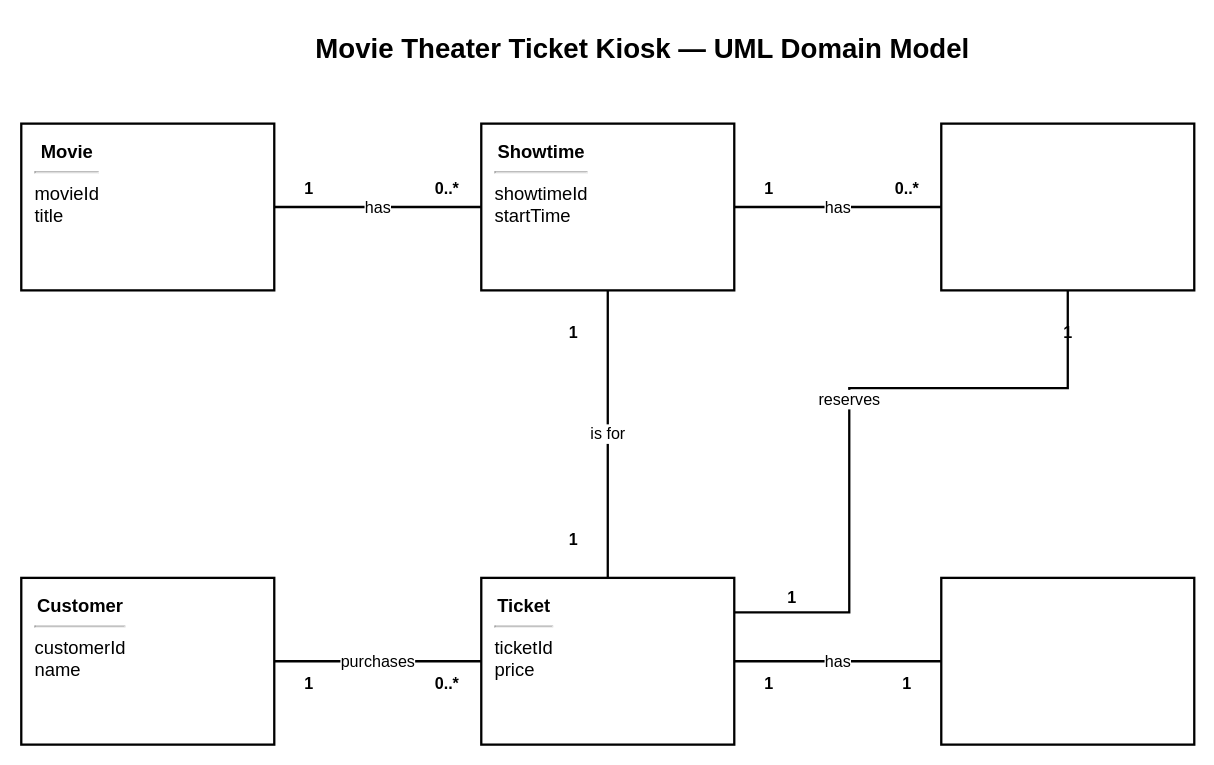
Image size: 1214x765. Some labels were removed from this diagram. Each missing label, with the centre of its shape:
Payment paymentId amount: pixel 1067 660
Seat seatNumber status: pixel 1067 206
